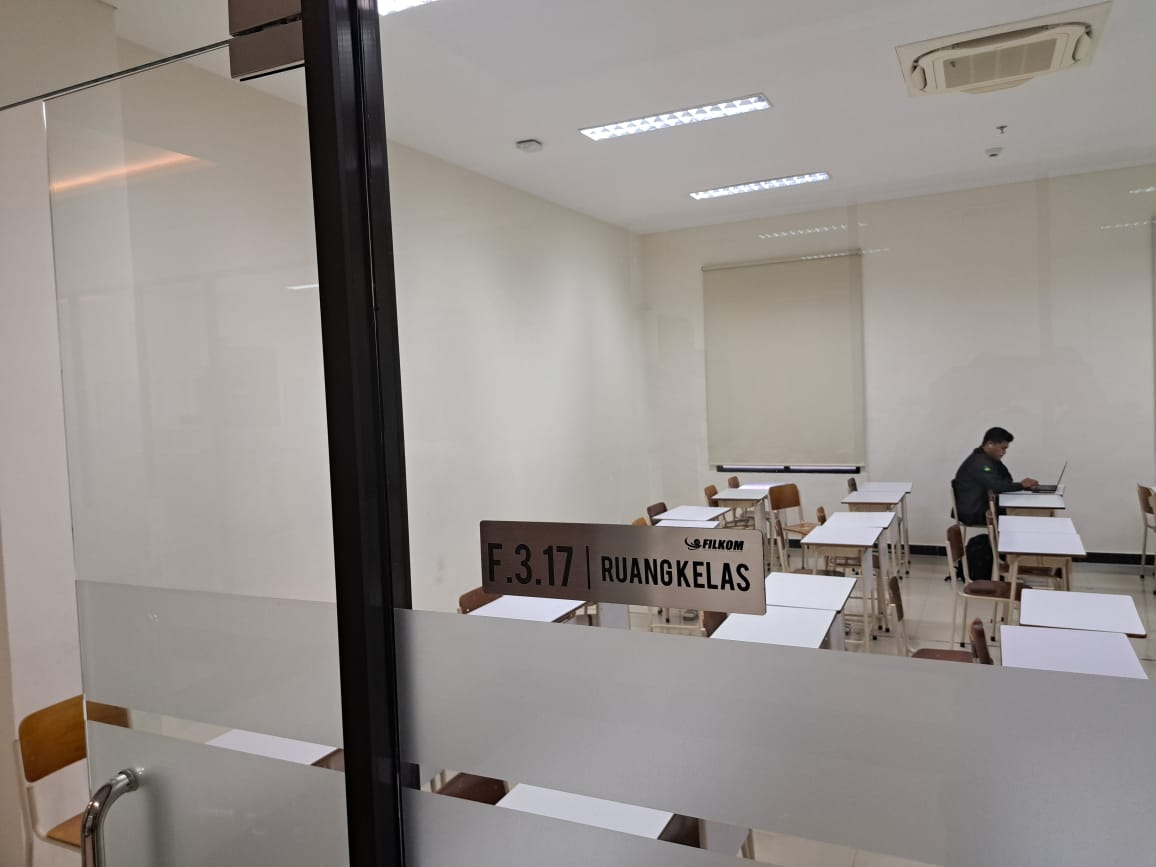ruang kelas: (472, 505, 770, 628)
